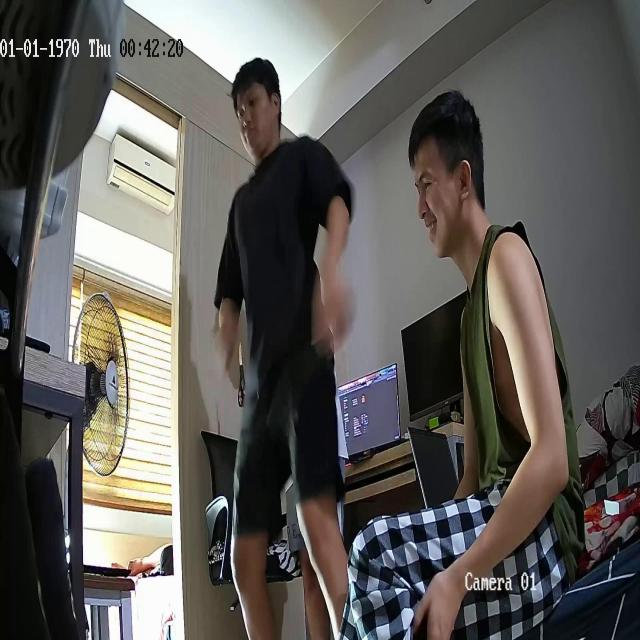scissor: (237, 342, 246, 407)
